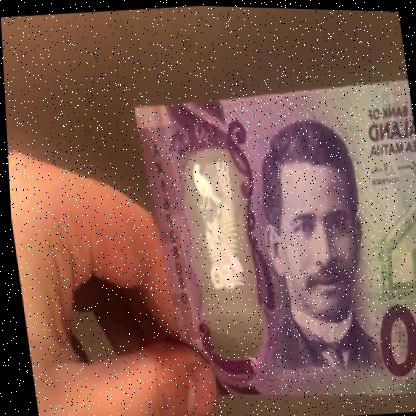50F: (186, 151, 257, 354)
